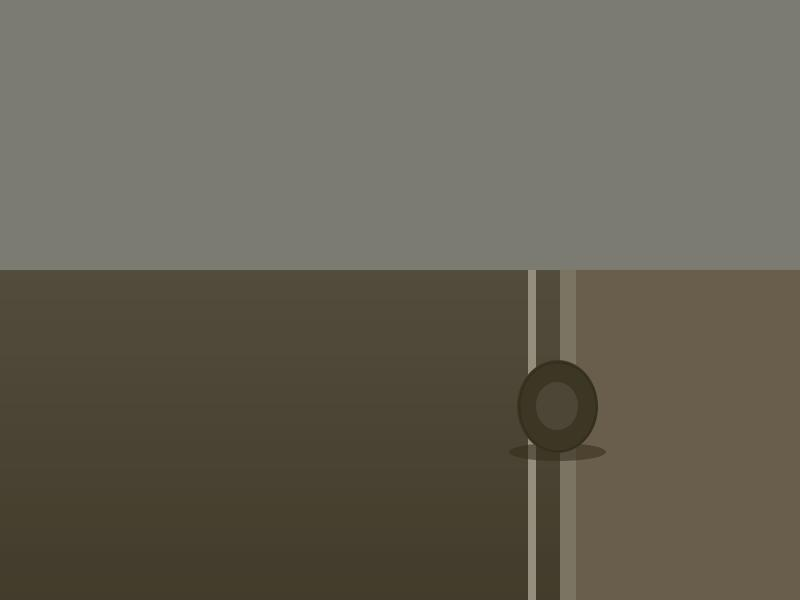ROAD_OBSTACLE: (517, 360, 598, 453)
